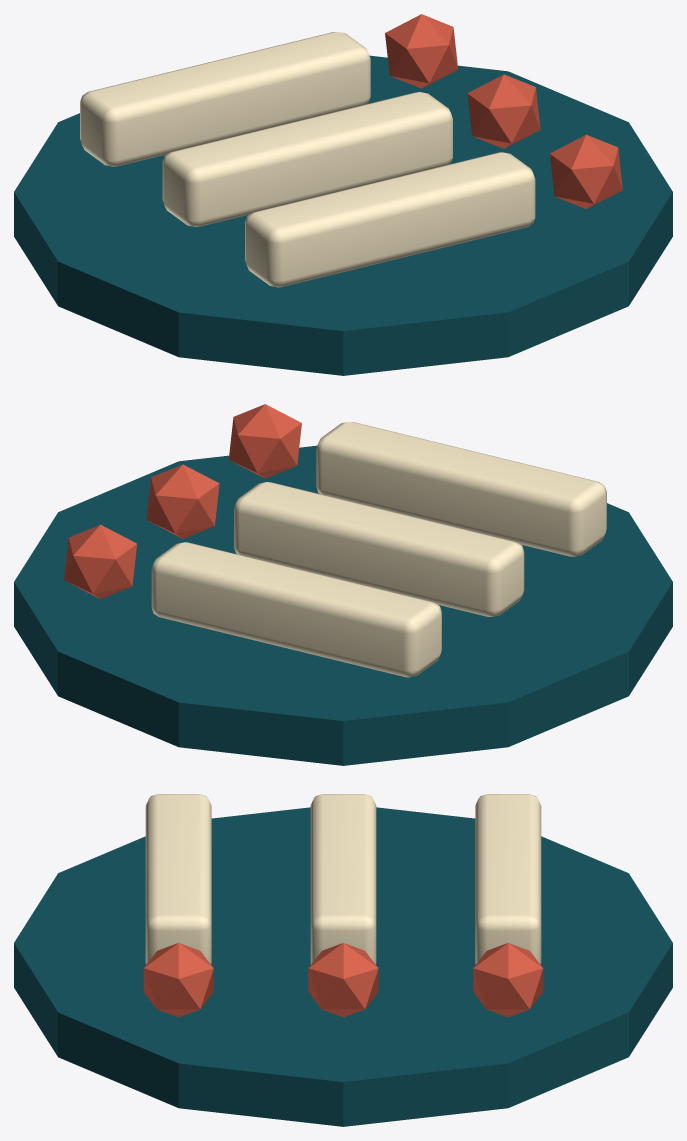
Rendered from Icon_Congestion.fbx.
The picture shows the model from 3 angles, top to bottom: view 1: azimuth 30°, elevation 25°; view 2: azimuth 150°, elevation 25°; view 3: azimuth 270°, elevation 25°; orthographic projection.
Visible parts, largest first — view 1: Icon_Congestion_Static; view 2: Icon_Congestion_Static; view 3: Icon_Congestion_Static.
Part boxes in pixels (left/top/right/bottom): Icon_Congestion_Static: left=14, top=14, right=672, bottom=375; Icon_Congestion_Static: left=14, top=404, right=672, bottom=765; Icon_Congestion_Static: left=14, top=794, right=672, bottom=1126.
Bounding box in the file's own units: 1.6 × 0.33 × 1.6.
1 material, 1 textured.
